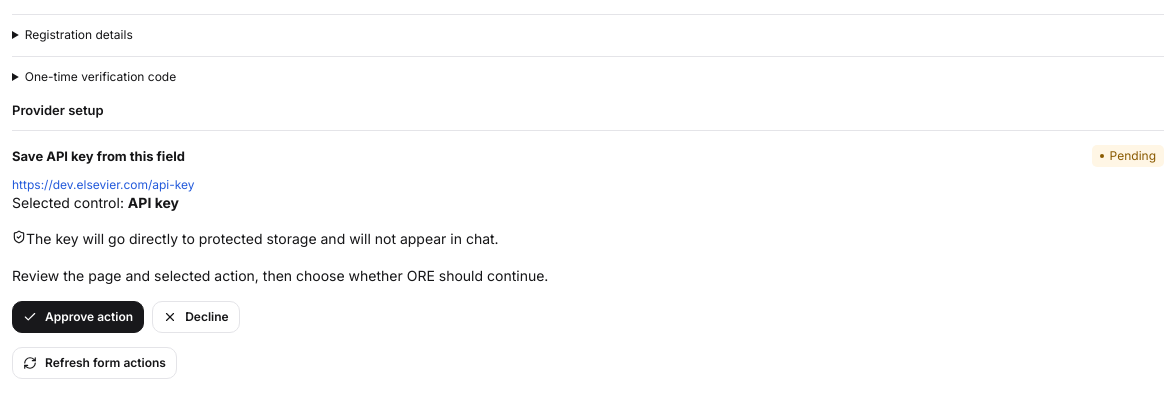
Test: reviewed provider setup actions in chat › allows a pending setup action to be declined without executing it
This screenshot has width=1164, height=396.
Click the button "Decline" at (196, 317), box x1=152 y1=301 x2=240 y2=333
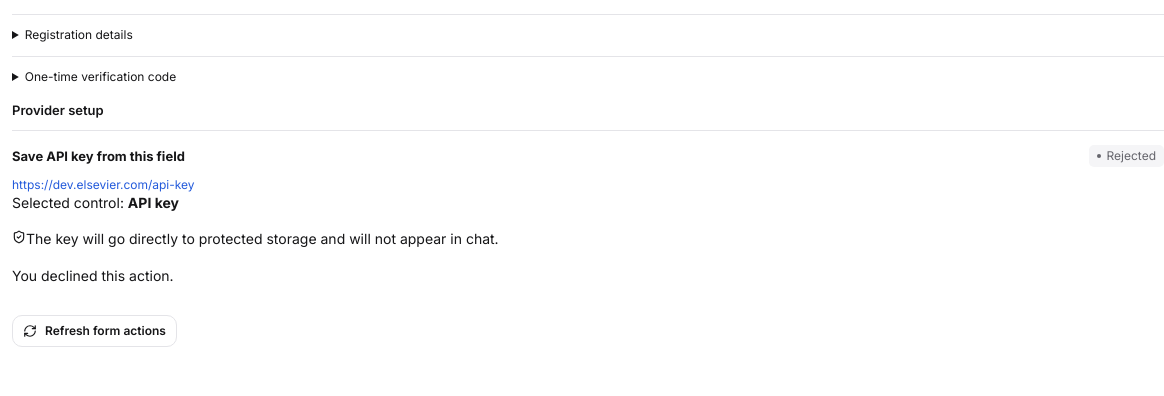
Expected: the text "You declined this action." is shown, x1=12 y1=267 x2=174 y2=284
